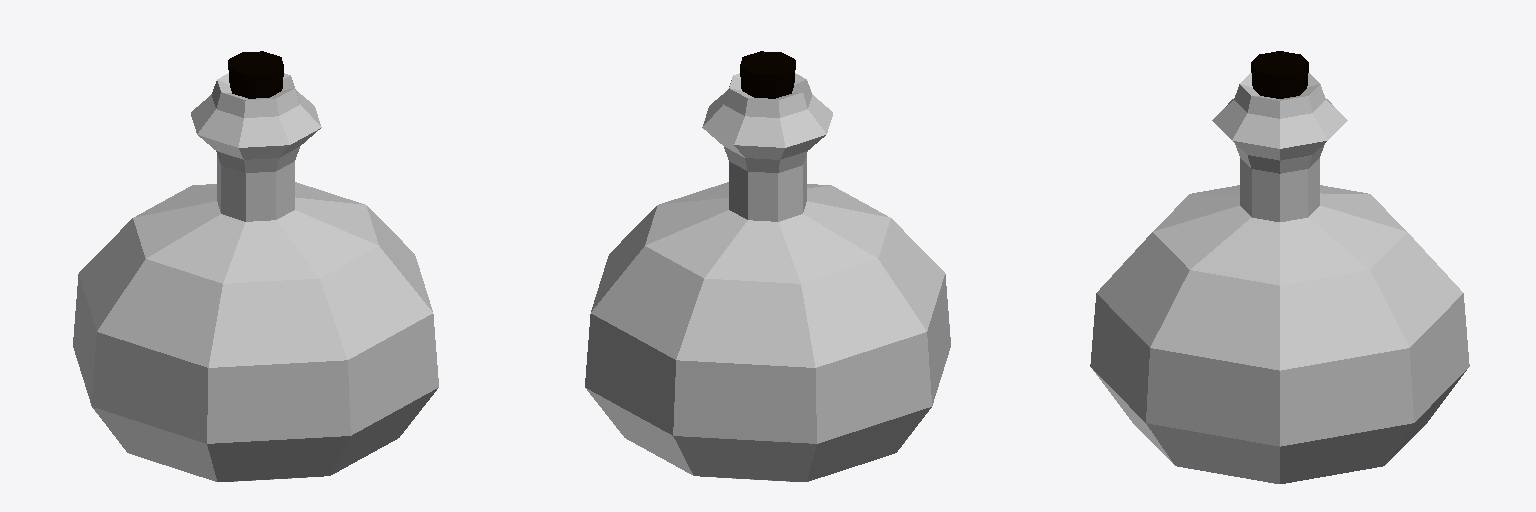
File: flachabyme.obj
The picture shows the model from 3 angles: view 1: azimuth 30°, elevation 25°; view 2: azimuth 150°, elevation 25°; view 3: azimuth 270°, elevation 25°; orthographic projection.
Parts seen in each view (by area): view 1: flacha, cap; view 2: flacha, cap; view 3: flacha, cap.
Boxes of the visible parts, x1,y1,x2,y2 form: flacha: [73, 73, 438, 481]; cap: [228, 51, 283, 98]; flacha: [585, 73, 950, 481]; cap: [740, 51, 795, 98]; flacha: [1090, 73, 1469, 483]; cap: [1251, 51, 1308, 98].
Bounding box in the file's own units: 1.78 × 1.99 × 1.78.